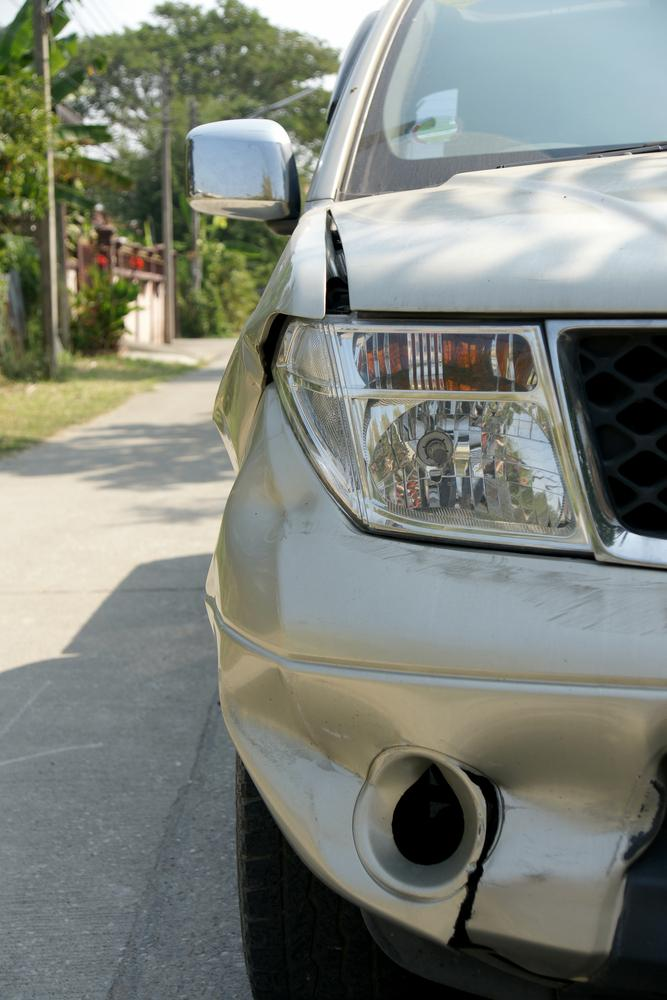crack: (445, 765, 577, 986)
dent: (452, 707, 660, 886), (218, 666, 400, 864), (236, 484, 317, 549)
scratch: (347, 531, 667, 637)
